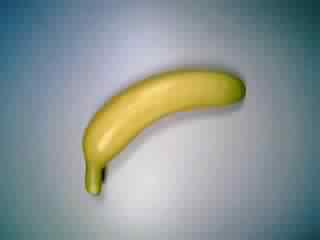banana: (78, 64, 249, 196)
